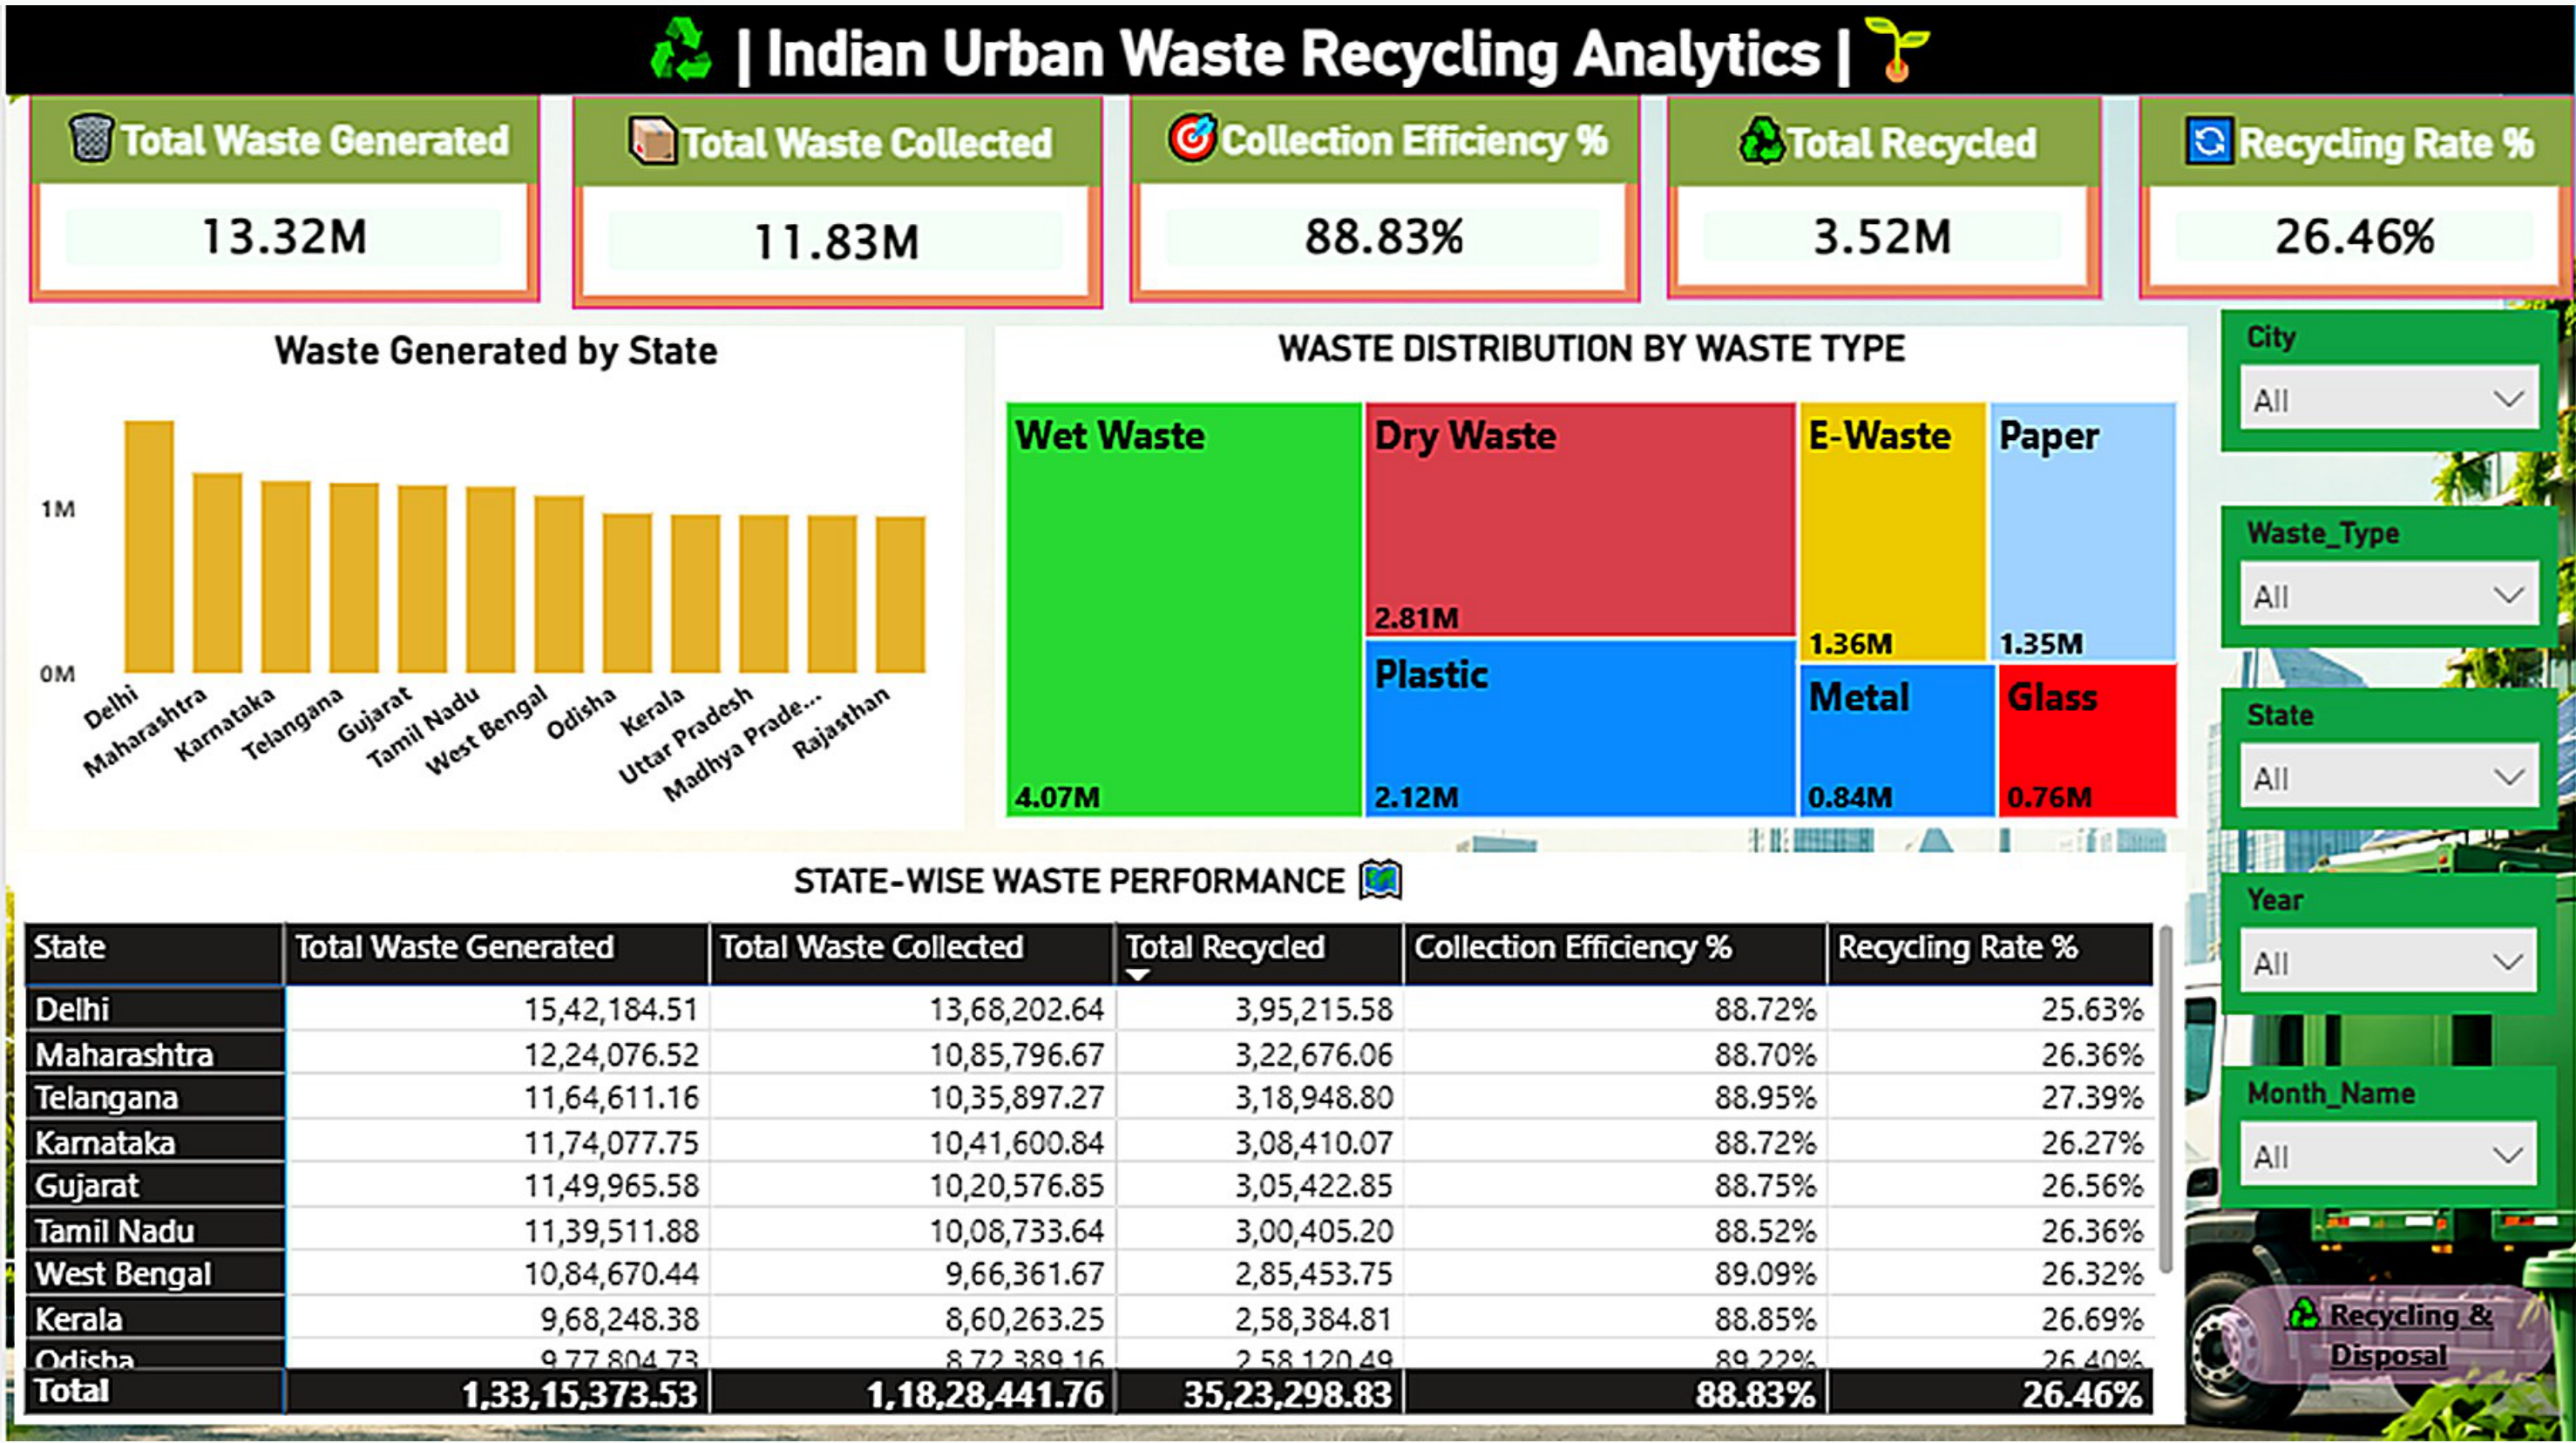

The page's visual inventory and layout, read from the dashboard file:
{"tool":"powerbi","page":{"name":"🏠 OVERVIEW","canvas":[1280,720],"ordinal":0},"visuals":[{"type":"cardVisual","title":"🗑️Total Waste Generated","fields":{"Data":["dataset_30000_rows.Total Waste Generated"]},"box":[11.4,45.8,255.3,104.1],"z":0},{"type":"cardVisual","title":"📦Total Waste Collected","fields":{"Data":["dataset_30000_rows.Total Waste Collected"]},"box":[281.7,47.2,264.6,105.8],"z":1000},{"type":"cardVisual","title":"🎯Collection Efficiency %","fields":{"Data":["dataset_30000_rows.Collection Efficiency %"]},"box":[559.2,45.8,254.6,104.4],"z":2000},{"type":"cardVisual","title":"♻️Total Recycled","fields":{"Data":["dataset_30000_rows.Total Recycled"]},"box":[828.1,47.2,216.9,100.6],"z":3000},{"type":"cardVisual","title":"🔄Recycling Rate %","fields":{"Data":["dataset_30000_rows.Recycling Rate %"]},"box":[1062.6,47.2,216.9,100.6],"z":4000},{"type":"clusteredColumnChart","title":"Waste Generated by State","fields":{"Category":["dataset_30000_rows.State"],"Y":["Sum(dataset_30000_rows.Waste_Generated_Tons)"]},"box":[11.3,161.6,466.2,250.8],"z":5000},{"type":"treemap","title":"WASTE DISTRIBUTION BY WASTE TYPE","fields":{"Group":["dataset_30000_rows.Waste_Type"],"Values":["Sum(dataset_30000_rows.Waste_Generated_Tons)"]},"box":[493.2,162,594.4,250.2],"z":6000},{"type":"pivotTable","title":"STATE-WISE WASTE PERFORMANCE 🗺️  ","fields":{"Rows":["dataset_30000_rows.State"],"Values":["dataset_30000_rows.Total Waste Generated","dataset_30000_rows.Total Waste Collected","dataset_30000_rows.Total Recycled","dataset_30000_rows.Collection Efficiency %","dataset_30000_rows.Recycling Rate %"]},"box":[4.3,423.3,1082.1,284.6],"z":7000},{"type":"slicer","fields":{"Values":["dataset_30000_rows.Year"]},"box":[1103.7,433.4,167.2,70.9],"z":8000},{"type":"slicer","fields":{"Values":["dataset_30000_rows.State"]},"box":[1103.5,341.3,168,70.6],"z":9000},{"type":"slicer","fields":{"Values":["dataset_30000_rows.City"]},"box":[1103.5,153.3,167.7,70.8],"z":10000},{"type":"slicer","fields":{"Values":["dataset_30000_rows.Waste_Type"]},"box":[1103.5,250.2,167.7,70.8],"z":11000},{"type":"shape","title":"♻️ | Indian Urban Waste Recycling Analytics |🌱","box":[0,0,1279.7,46.4],"z":12000},{"type":"slicer","fields":{"Values":["Indian Urban Waste Recycling Analytics.Month_Name"]},"box":[1104.1,530.1,167.2,70.9],"z":13000},{"type":"actionButton","box":[1104.1,639.2,167.2,49.6],"z":14000}]}

Visuals, with their boxes in screenshot pixels (x1, y1, x2, y2), scaled from the page's 1280x720 canvas onto the 2576x1443 screenshot:
"🗑️Total Waste Generated" cardVisual: x1=23, y1=91, x2=537, y2=301
"📦Total Waste Collected" cardVisual: x1=567, y1=95, x2=1100, y2=307
"🎯Collection Efficiency %" cardVisual: x1=1125, y1=91, x2=1637, y2=301
"♻️Total Recycled" cardVisual: x1=1666, y1=95, x2=2103, y2=296
"🔄Recycling Rate %" cardVisual: x1=2139, y1=95, x2=2575, y2=296
"Waste Generated by State" clusteredColumnChart: x1=23, y1=324, x2=961, y2=827
"WASTE DISTRIBUTION BY WASTE TYPE" treemap: x1=993, y1=325, x2=2189, y2=826
"STATE-WISE WASTE PERFORMANCE 🗺️  " pivotTable: x1=9, y1=849, x2=2186, y2=1419
slicer - dataset_30000_rows.Year: x1=2221, y1=869, x2=2558, y2=1011
slicer - dataset_30000_rows.State: x1=2220, y1=684, x2=2559, y2=825
slicer - dataset_30000_rows.City: x1=2220, y1=308, x2=2559, y2=449
slicer - dataset_30000_rows.Waste_Type: x1=2220, y1=501, x2=2559, y2=643
"♻️ | Indian Urban Waste Recycling Analytics |🌱" shape: x1=0, y1=0, x2=2575, y2=93
slicer - Indian Urban Waste Recycling Analytics.Month_Name: x1=2222, y1=1062, x2=2559, y2=1204
actionButton: x1=2222, y1=1281, x2=2559, y2=1380
